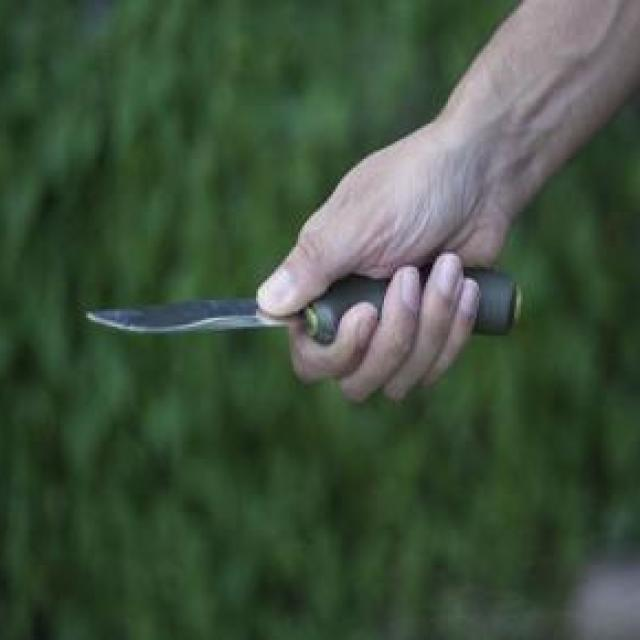knife: (64, 245, 479, 413)
